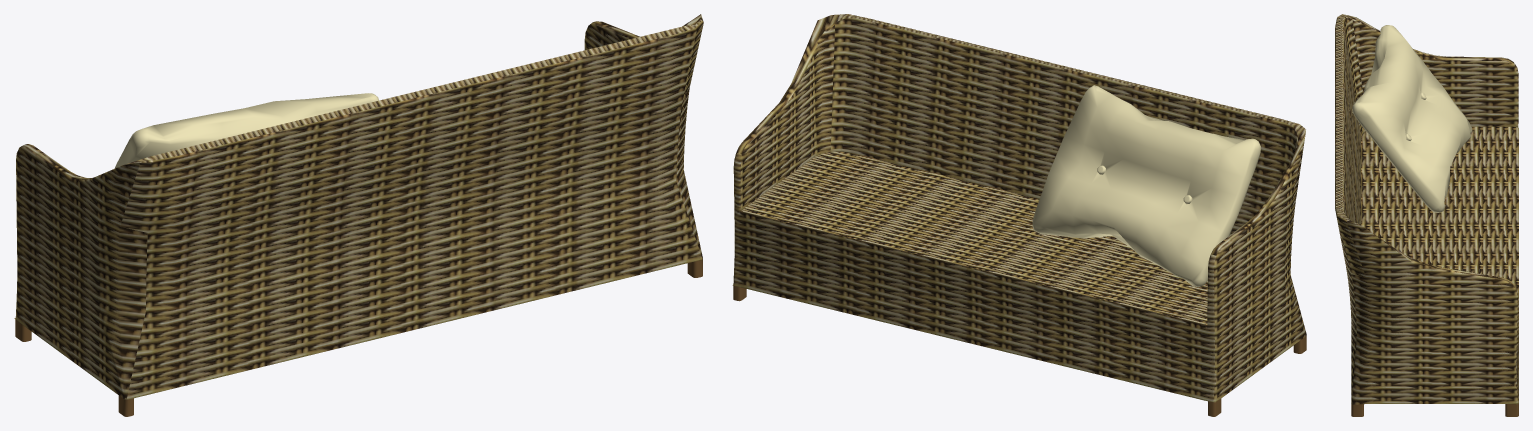
Rendered from flying_sofa.glb.
3 views of the same model, side by side, from view 1: azimuth 30°, elevation 25°; view 2: azimuth 150°, elevation 25°; view 3: azimuth 270°, elevation 25° (orthographic). The views are drawn at different scales.
Parts seen in each view (by area): view 1: Cube_2, Cube.001_3; view 2: Cube_2, Cube.001_3; view 3: Cube_2, Cube.001_3.
Part boxes in pixels (x1,y1,x2,y2): Cube_2: (14, 14, 703, 416); Cube.001_3: (114, 93, 378, 168); Cube_2: (732, 14, 1306, 416); Cube.001_3: (1032, 85, 1260, 287); Cube_2: (1335, 14, 1518, 416); Cube.001_3: (1352, 25, 1472, 212).
Size of the model in its own units: 2.72 by 1.16 by 0.9874.
3 materials, 1 textured.
